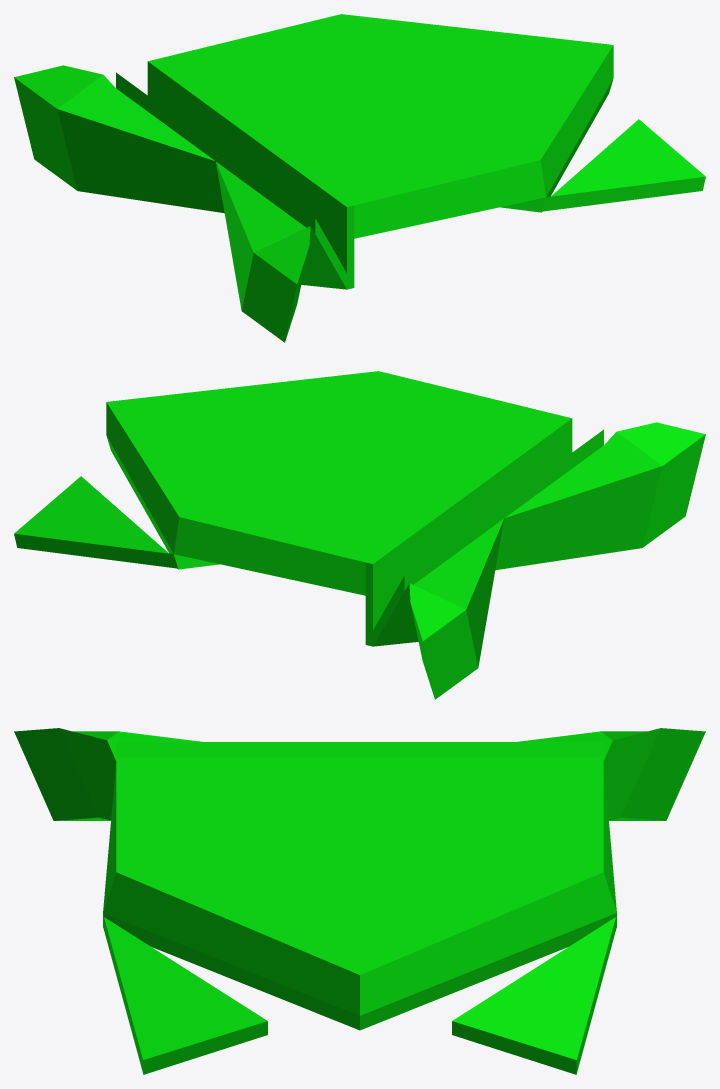
The model's file is SM_Frog_1.fbx.
3 renders of one model, top to bottom at view 1: azimuth 30°, elevation 25°; view 2: azimuth 150°, elevation 25°; view 3: azimuth 270°, elevation 25°, orthographic. The views are drawn at different scales.
Visible parts, largest first — view 1: pCube12; view 2: pCube12; view 3: pCube12.
Boxes of the visible parts, x1=… form: pCube12: x1=14, y1=14, x2=705, y2=342; pCube12: x1=14, y1=371, x2=705, y2=699; pCube12: x1=14, y1=728, x2=705, y2=1074.
Size of the model in its own units: 2.53 by 0.5006 by 2.69.
